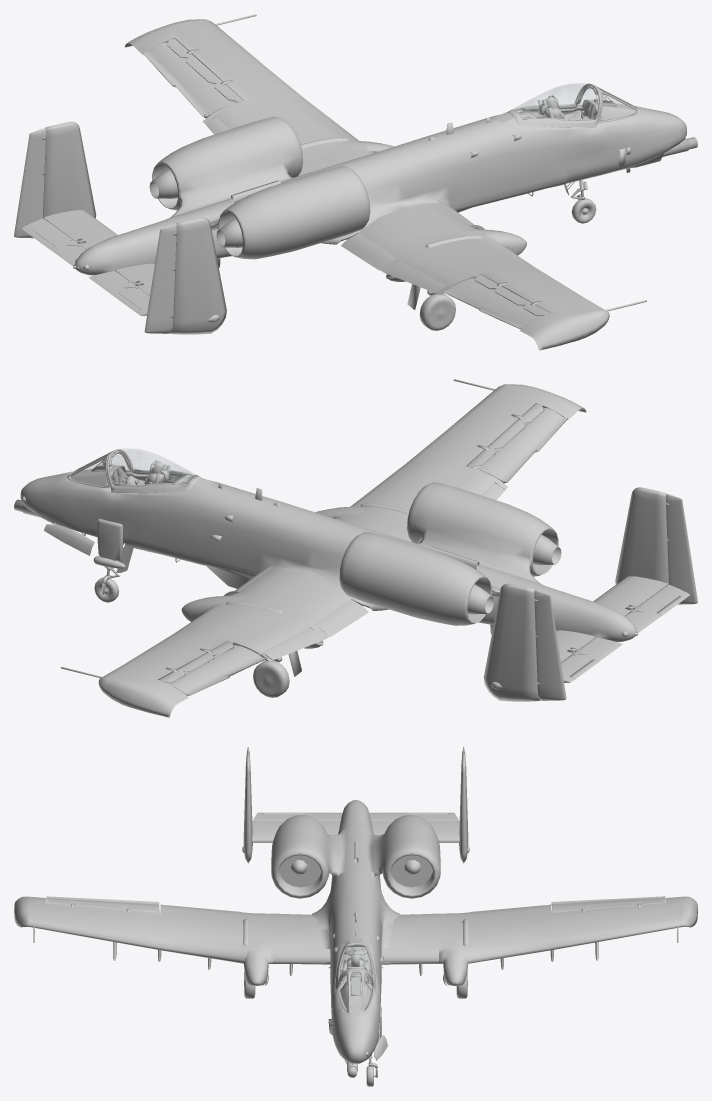
The model's file is a10-warthog.obj.
3 views of the same model, one above another, from view 1: azimuth 30°, elevation 25°; view 2: azimuth 150°, elevation 25°; view 3: azimuth 270°, elevation 25° (orthographic). The views are drawn at different scales.
Visible parts, largest first — view 1: body, wingl1, wingr2, wingl2, wingr1, aileron2, aileron1, rudder1, rudder2, window4, elevator2, elevator1 (+6 smaller); view 2: body, wingr1, wingl2, wingr2, wingl1, aileron1, aileron2, rudder2, rudder1, window4, elevator1, elevator2 (+7 smaller); view 3: body, wingl1, wingr1, wingr2, wingl2, engine1, aileron2, aileron1, engine2, elevator1, elevator2.
Boxes of the visible parts, x1,y1,x2,y2 form: body: (42,85,686,334); wingl1: (358,200,533,285); wingr2: (125,14,301,124); wingl2: (437,264,646,350); wingr1: (216,96,393,175); aileron2: (143,38,243,118); aileron1: (441,274,549,328); rudder1: (144,224,176,333); rudder2: (14,128,45,238); window4: (513,83,599,120); elevator2: (21,218,85,266); elevator1: (88,271,149,316); body: (20,451,669,701); wingr1: (174,566,350,652); wingl2: (407,379,586,489); wingr2: (60,630,272,717); wingl1: (315,461,494,541); aileron1: (467,404,567,483); aileron2: (159,641,267,695); rudder2: (534,590,566,700); rudder1: (666,494,697,604); window4: (109,448,195,485); elevator1: (625,584,689,633); elevator2: (561,637,622,682); body: (242,751,469,1064); wingl1: (162,905,330,985); wingr1: (381,905,549,985); wingr2: (542,896,697,961); wingl2: (14,896,169,961); engine1: (354,841,432,887); aileron2: (551,896,665,912); aileron1: (46,896,160,912); engine2: (279,855,321,887); elevator1: (253,812,342,820); elevator2: (369,812,458,820).
Bounding box in the file's own units: 319 × 84.08 × 370.
